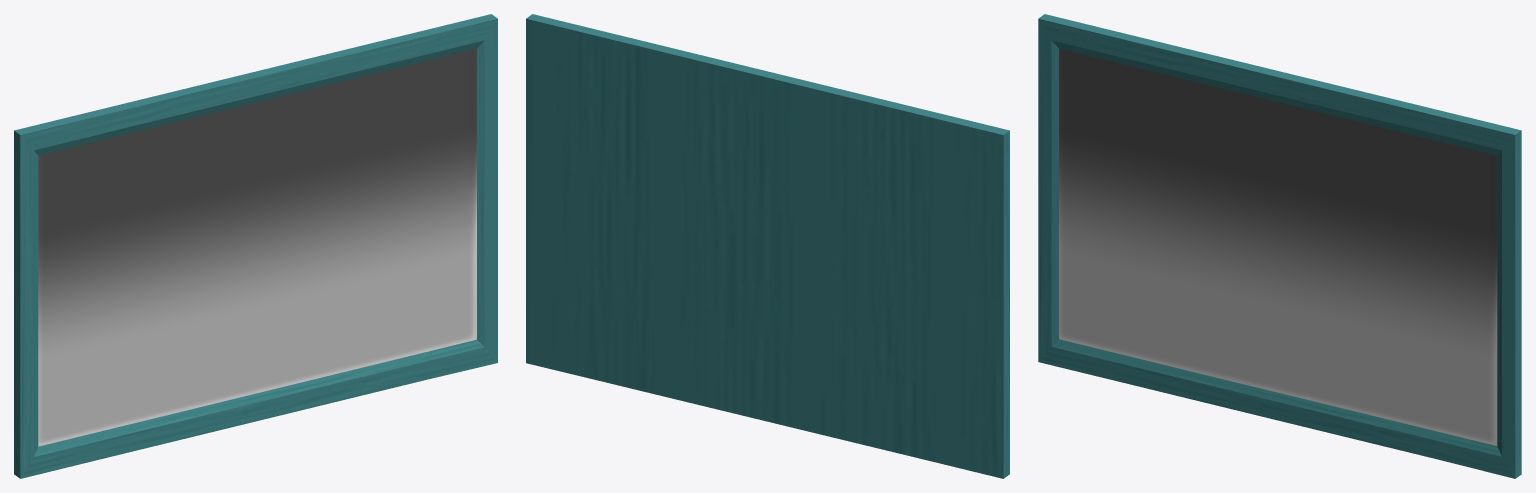
Rendered from Mirror_I.FBX.
3 views of the same model, side by side, from view 1: azimuth 30°, elevation 25°; view 2: azimuth 150°, elevation 25°; view 3: azimuth 330°, elevation 25° (orthographic).
Parts seen in each view (by area): view 1: Mirror; view 2: Mirror; view 3: Mirror.
Boxes of the visible parts, <box> form: Mirror: <box>14,14,497,478</box>; Mirror: <box>526,14,1009,478</box>; Mirror: <box>1038,14,1521,478</box>.
Bounding box in the file's own units: 238 × 164 × 5.52.
